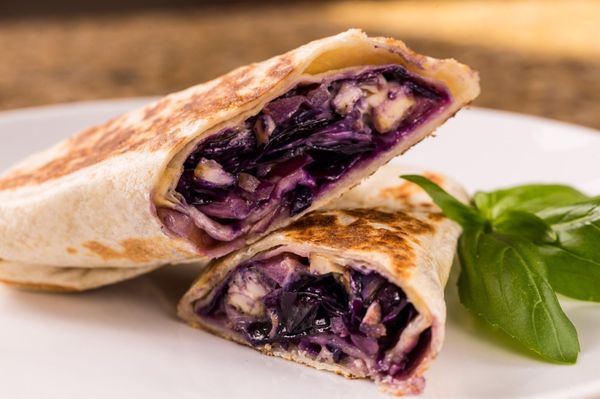soup: (0, 25, 471, 283), (177, 168, 465, 391)
